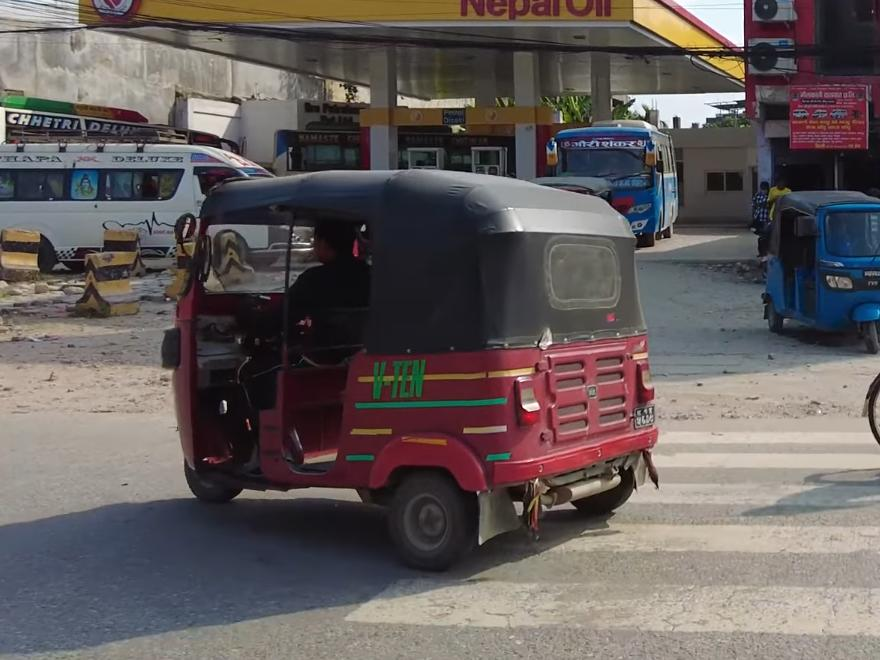auto_rickshaw: (158, 162, 667, 575), (758, 185, 880, 354)
bus: (554, 115, 682, 253)
micro_bus: (0, 122, 313, 267)
